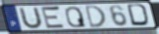6: (109, 5, 129, 27)
D: (126, 3, 152, 27), (84, 5, 107, 30)
E: (40, 6, 67, 30)
Q: (65, 6, 88, 29)
U: (19, 6, 44, 30)
